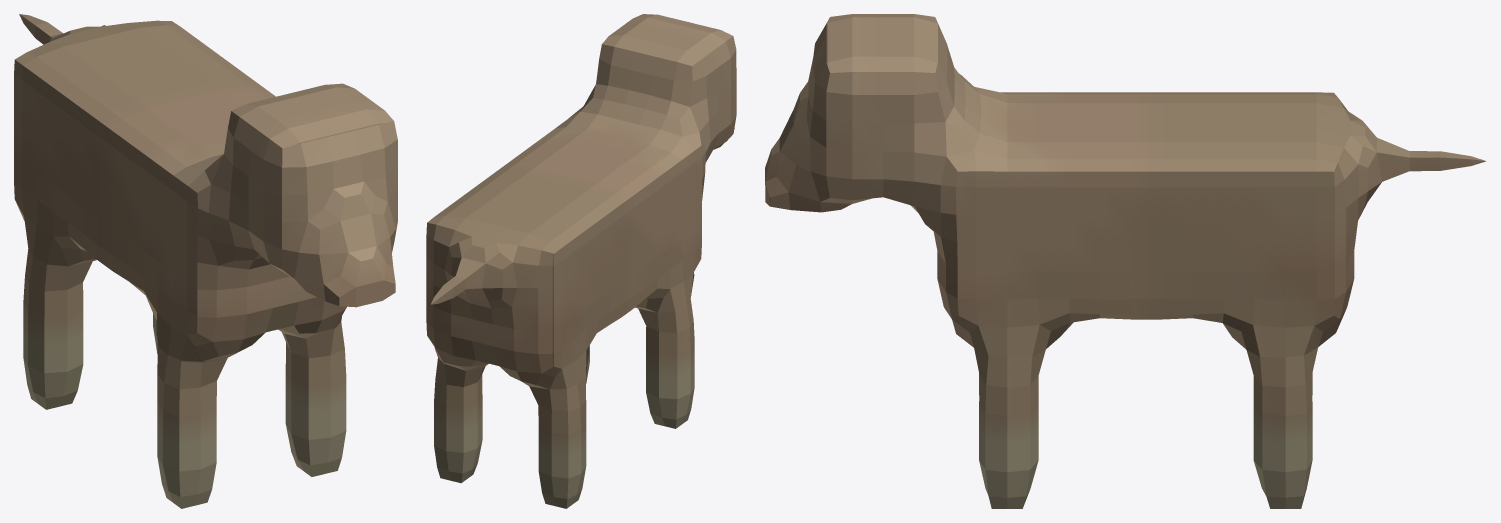
The model's file is blackBear.glb.
The picture shows the model from 3 angles, left to right: view 1: azimuth 30°, elevation 25°; view 2: azimuth 150°, elevation 25°; view 3: azimuth 270°, elevation 25°; orthographic projection. The views are drawn at different scales.
Visible parts, largest first — view 1: geometry_0; view 2: geometry_0; view 3: geometry_0.
Part boxes in pixels (x1,y1,x2,y2): geometry_0: (14,14,397,508); geometry_0: (426,14,736,508); geometry_0: (765,14,1486,508).
Size of the model in its own units: 0.4437 by 1 by 1.51.
1 material, 1 textured.
